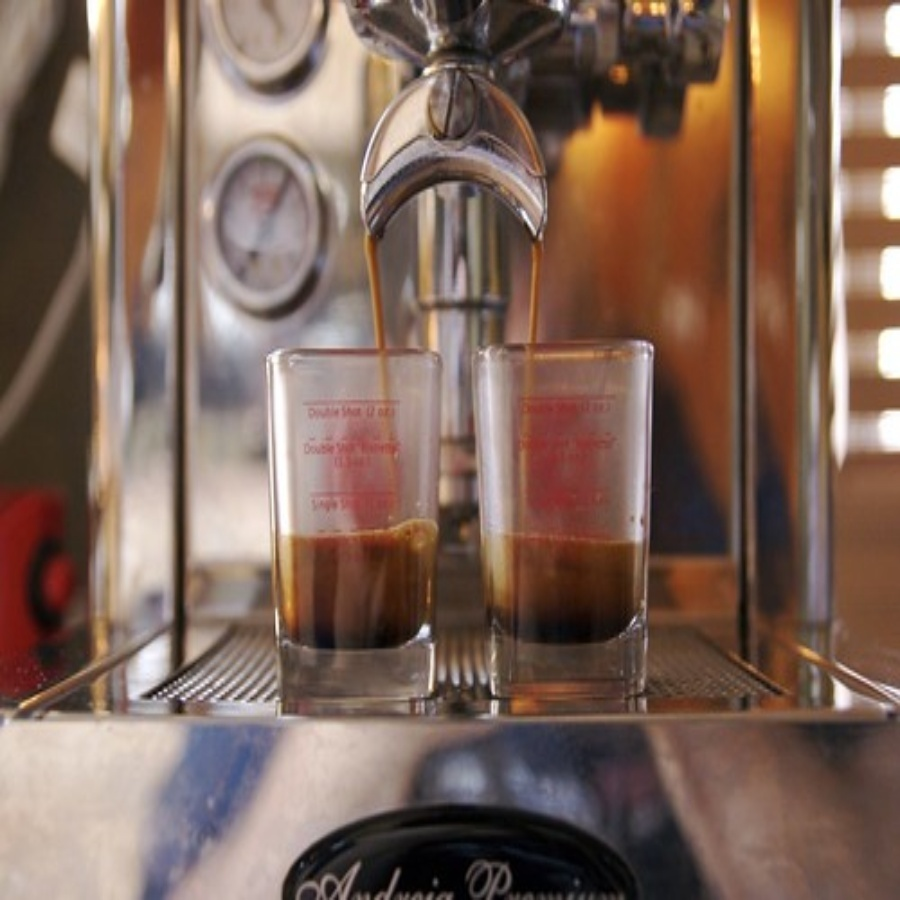whiskey: (475, 325, 650, 687), (268, 349, 443, 711)
